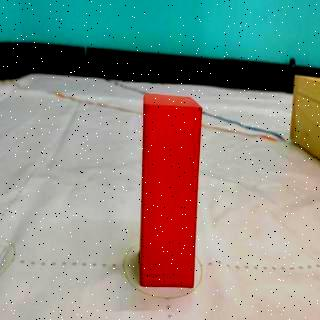redbox: (138, 93, 202, 288)
